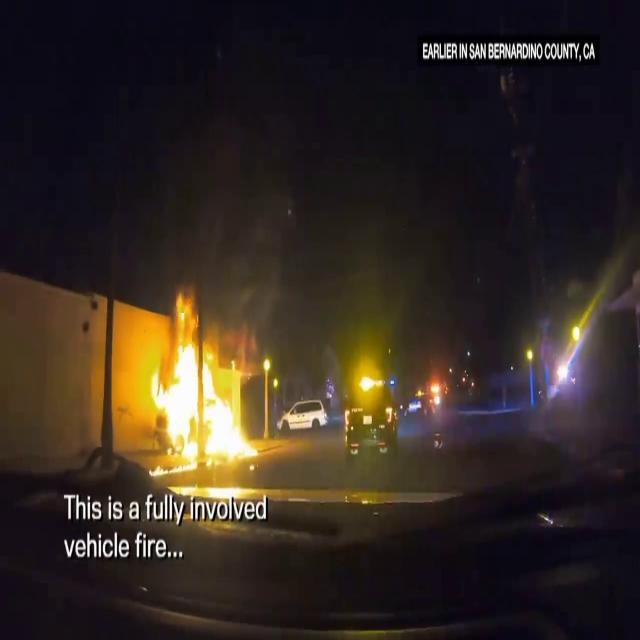Fire: (148, 308, 254, 468)
